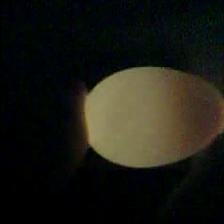infertile: (83, 60, 224, 168)
